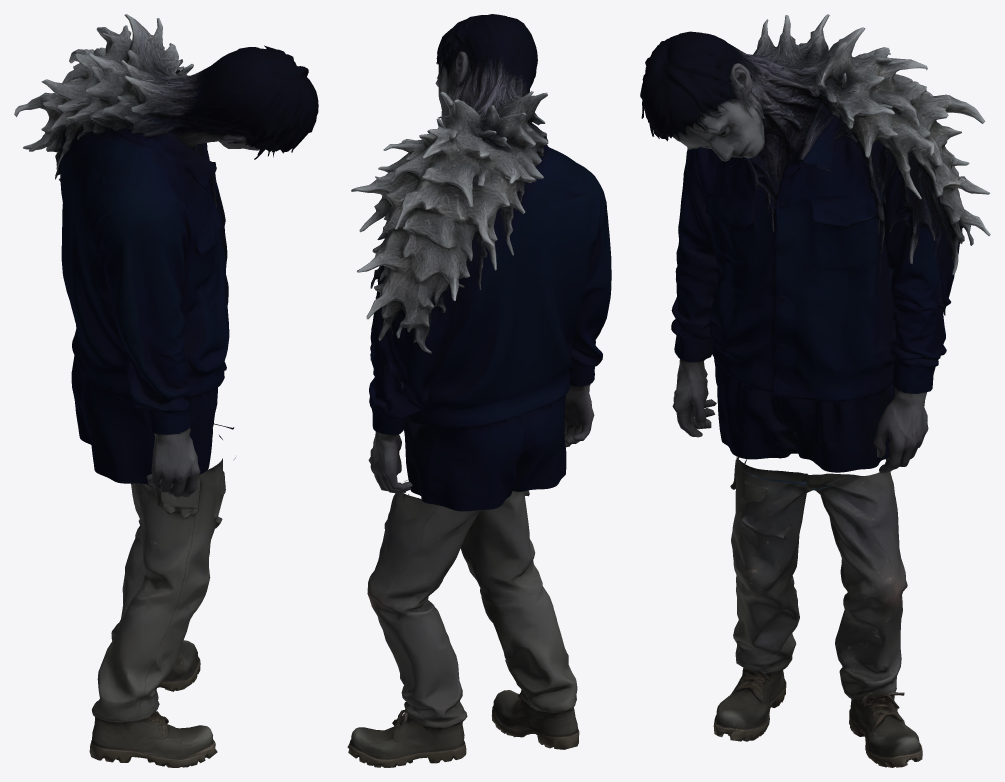
The model's file is host_parasite.glb.
3 views of the same model, side by side, from view 1: azimuth 30°, elevation 25°; view 2: azimuth 150°, elevation 25°; view 3: azimuth 270°, elevation 25° (orthographic). The views are drawn at different scales.
Parts seen in each view (by area): view 1: host_parasite_grafted; view 2: host_parasite_grafted; view 3: host_parasite_grafted.
Boxes of the visible parts, x1=… form: host_parasite_grafted: x1=14, y1=14, x2=318, y2=767; host_parasite_grafted: x1=347, y1=14, x2=611, y2=767; host_parasite_grafted: x1=640, y1=14, x2=990, y2=767.
Bounding box in the file's own units: 0.2821 × 1 × 0.4401.
Materials: 2 (2 with a texture image).
